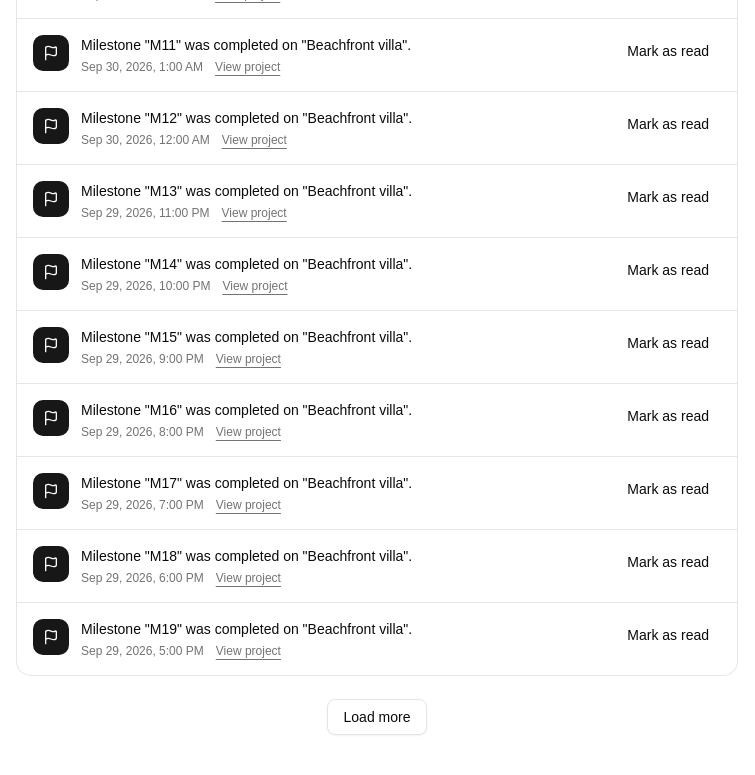
Test case: NotificationsPage › marking read › marks one read in place, lowers the count, and keeps the pages already loaded
(page scrolled)
Click the button "Load more".
click(377, 717)  # box [326,699,427,735]
(page scrolled)
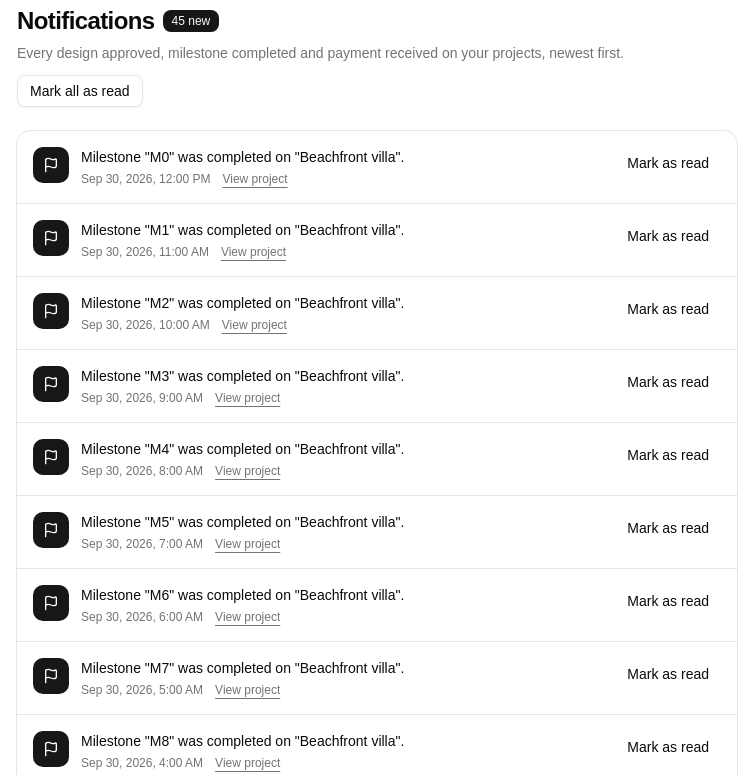
Click the button "Mark as read" in the row of "Sep 30, 2026, 12:00 PM".
click(668, 163)  # box [615,147,721,179]
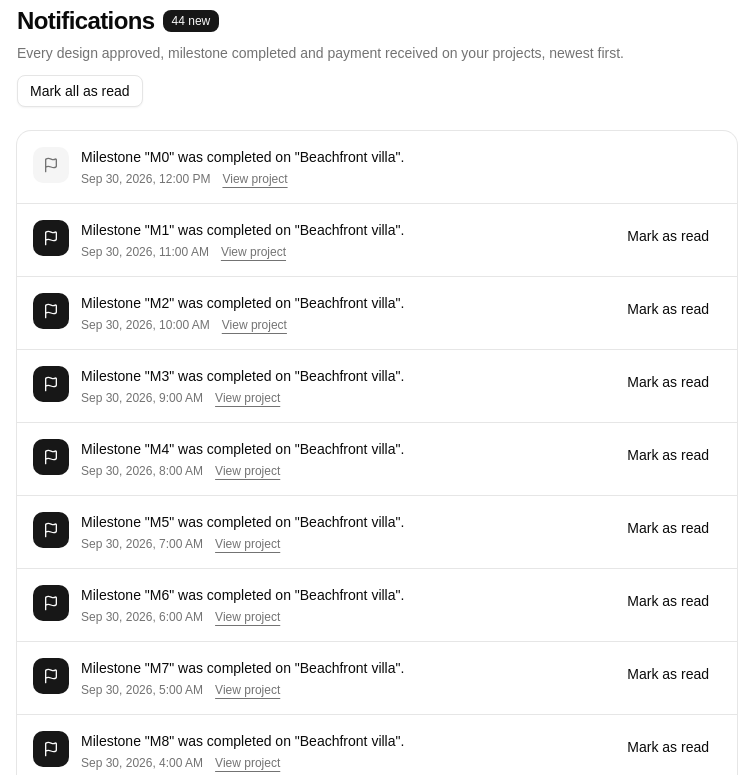
expect the number of list items is 40: met
expect the text "44 new" is shown: met, box [162,10,219,32]
